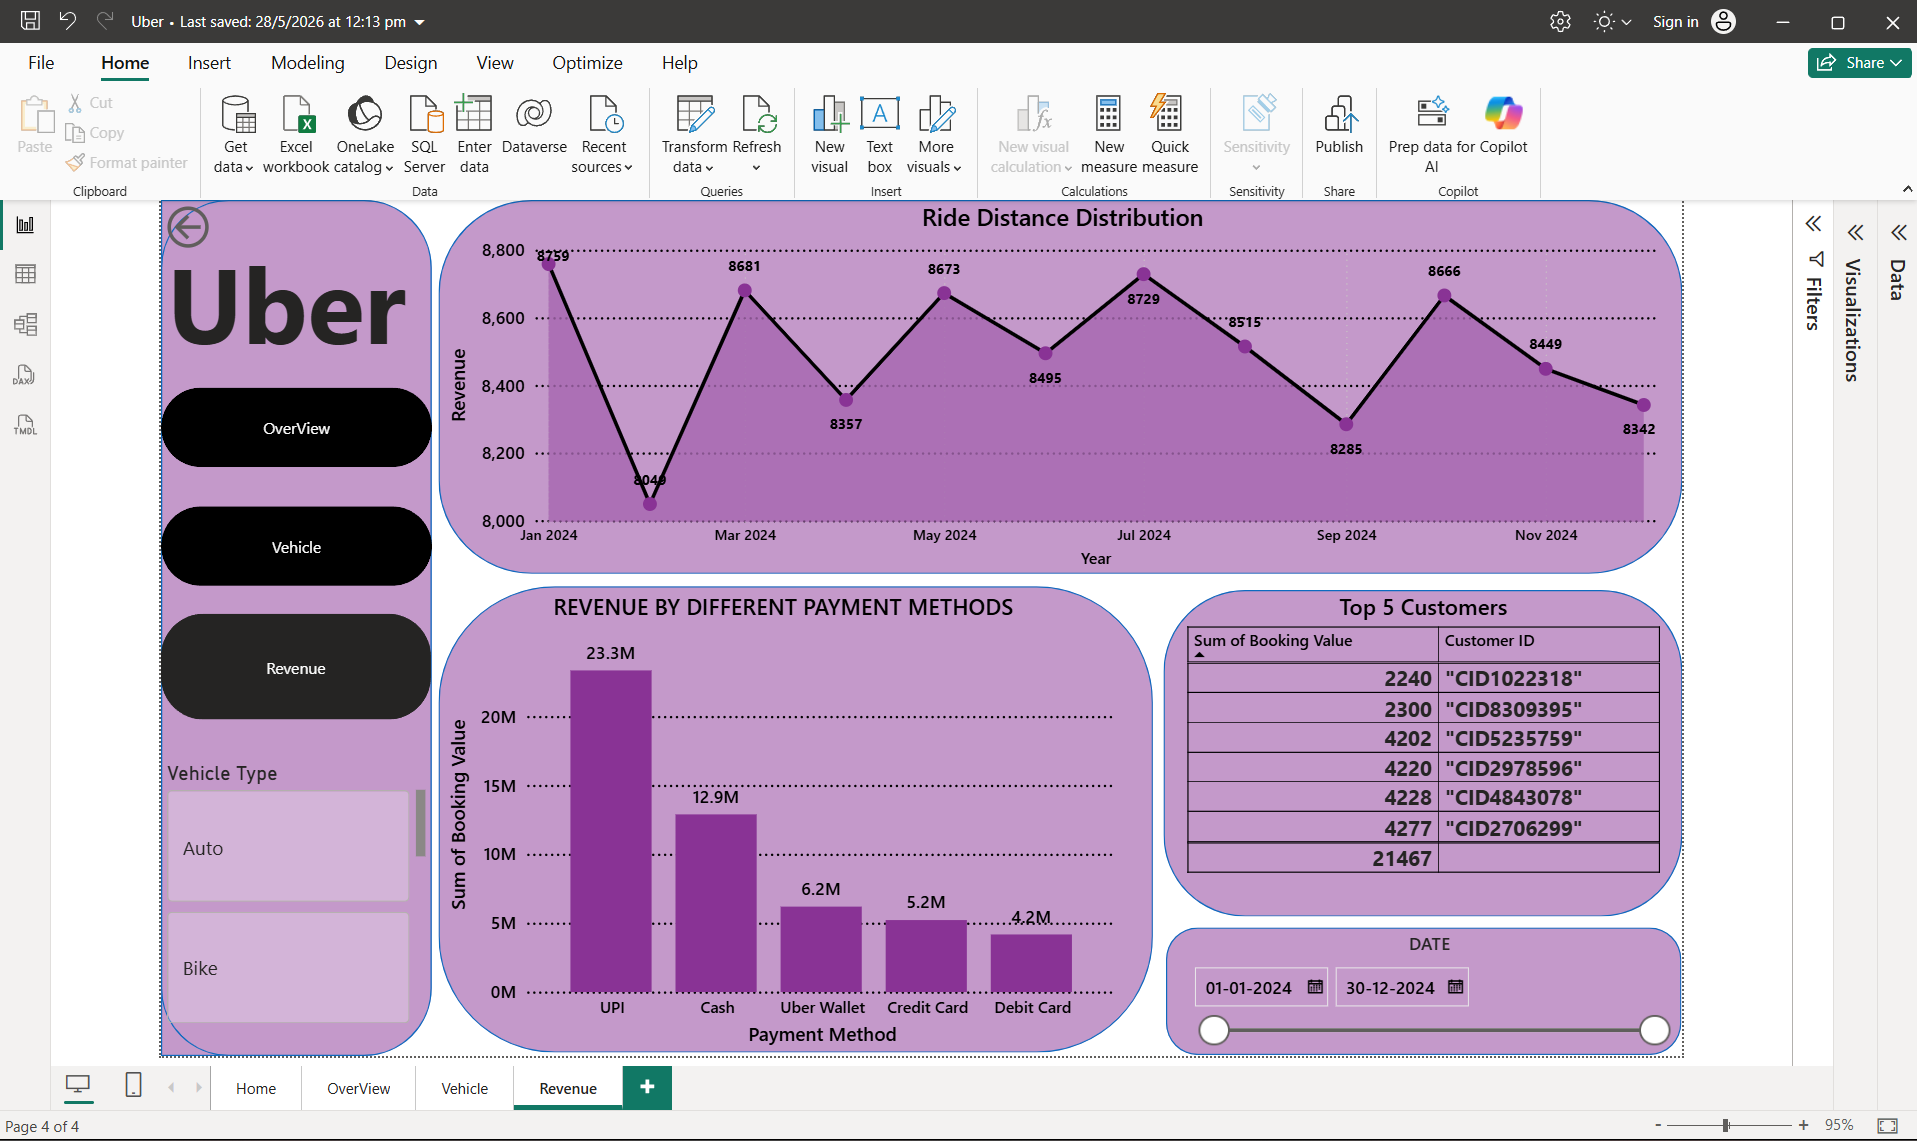

Layout of this report page (visuals, bound fields, positions):
{"tool":"powerbi","page":{"name":"Revenue","canvas":[1280,720],"ordinal":3},"visuals":[{"type":"shape","box":[0,0,114.6,720],"z":1000,"group":"g1"},{"type":"shape","box":[843.4,327.7,436.4,274.8],"z":1000},{"type":"shape","box":[0,0,227.8,720],"z":1500,"group":"g1"},{"type":"shape","box":[233.6,0,1046.2,314.4],"z":2000},{"type":"group","id":"g1","title":"Group 1","box":[0,0,227.8,720],"z":3000},{"type":"shape","box":[233.6,324.7,601,392.3],"z":3500,"group":"g2"},{"type":"lineChart","title":"Ride Distance Distribution ","fields":{"Category":["ncr_ride_bookings.Date.Variation.Date Hierarchy.Year","ncr_ride_bookings.Date.Variation.Date Hierarchy.Quarter","ncr_ride_bookings.Date.Variation.Date Hierarchy.Month","ncr_ride_bookings.Date.Variation.Date Hierarchy.Day"],"Y":["CountNonNull(ncr_ride_bookings.Payment Method)"]},"box":[238,0,1041.8,314.4],"z":4000},{"type":"columnChart","title":"REVENUE BY DIFFERENT PAYMENT METHODS","fields":{"Category":["ncr_ride_bookings.Payment Method"],"Y":["Sum(ncr_ride_bookings.Booking Value)"]},"box":[238,329.1,571.6,387.9],"z":4000,"group":"g2"},{"type":"tableEx","title":"Top 5 Customers","fields":{"Values":["Sum(ncr_ride_bookings.Booking Value)","ncr_ride_bookings.Customer ID"]},"box":[856.7,329.1,410,255.7],"z":5000},{"type":"pageNavigator","box":[0,348.2,227.8,89.6],"z":6000},{"type":"textbox","box":[0,21.5,228.4,136.4],"z":7000},{"type":"pageNavigator","box":[0,157.9,228.4,67.4],"z":8000},{"type":"pageNavigator","box":[0,257.5,228.4,67],"z":9000},{"type":"advancedSlicerVisual","fields":{"Values":["ncr_ride_bookings.Vehicle Type"]},"box":[0,471.7,227.8,226.3],"z":10000},{"type":"group","id":"g2","title":"Group 2","box":[233.6,324.7,601,392.3],"z":11000},{"type":"shape","box":[845.8,612.4,433.5,107.3],"z":11001,"group":"g3"},{"type":"group","id":"g3","title":"Group 3","box":[845.8,612.4,433.5,107.3],"z":11500},{"type":"actionButton","box":[0,0,74.9,45.6],"z":11501},{"type":"slicer","title":"DATE","fields":{"Values":["ncr_ride_bookings.Date"]},"box":[856.9,615.3,420.2,104.3],"z":11501,"group":"g3"}]}

Visuals, with their boxes on the page's 1280x720 design canvas (x1, y1, x2, y2). These are canvas units, not pixel positions in the 1917x1141 screenshot, which may show the page scaled, cropped or inside an application window:
shape: (x1=0, y1=0, x2=115, y2=720)
shape: (x1=843, y1=328, x2=1280, y2=602)
shape: (x1=0, y1=0, x2=228, y2=720)
shape: (x1=234, y1=0, x2=1280, y2=314)
"Group 1" group: (x1=0, y1=0, x2=228, y2=720)
shape: (x1=234, y1=325, x2=835, y2=717)
"Ride Distance Distribution " lineChart: (x1=238, y1=0, x2=1280, y2=314)
"REVENUE BY DIFFERENT PAYMENT METHODS" columnChart: (x1=238, y1=329, x2=810, y2=717)
"Top 5 Customers" tableEx: (x1=857, y1=329, x2=1267, y2=585)
pageNavigator: (x1=0, y1=348, x2=228, y2=438)
textbox: (x1=0, y1=22, x2=228, y2=158)
pageNavigator: (x1=0, y1=158, x2=228, y2=225)
pageNavigator: (x1=0, y1=258, x2=228, y2=324)
advancedSlicerVisual - ncr_ride_bookings.Vehicle Type: (x1=0, y1=472, x2=228, y2=698)
"Group 2" group: (x1=234, y1=325, x2=835, y2=717)
shape: (x1=846, y1=612, x2=1279, y2=720)
"Group 3" group: (x1=846, y1=612, x2=1279, y2=720)
actionButton: (x1=0, y1=0, x2=75, y2=46)
"DATE" slicer: (x1=857, y1=615, x2=1277, y2=720)
